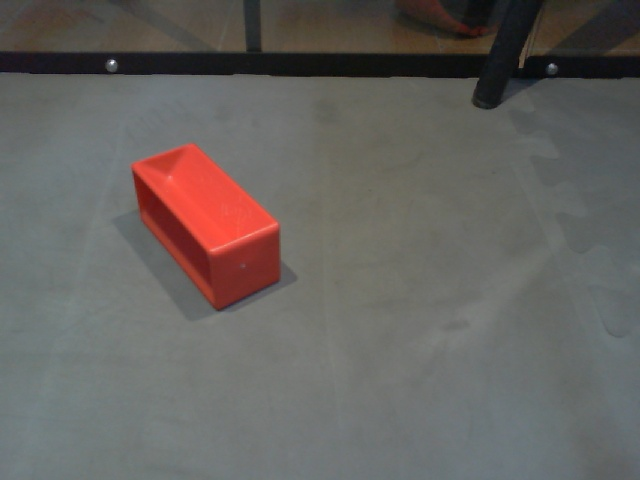RedSample: (126, 141, 285, 313)
